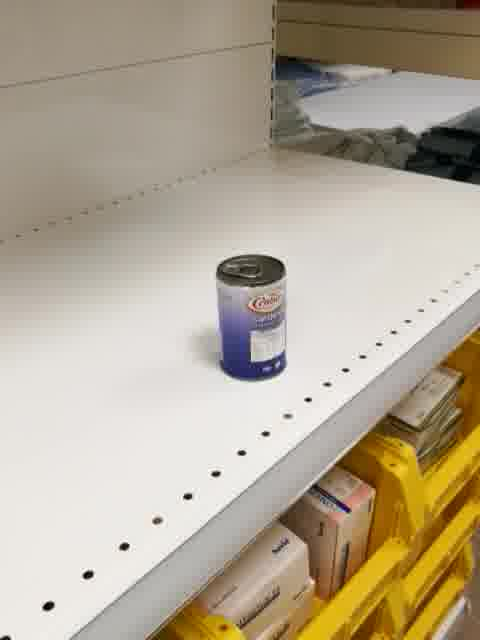sardine: (216, 253, 289, 382)
